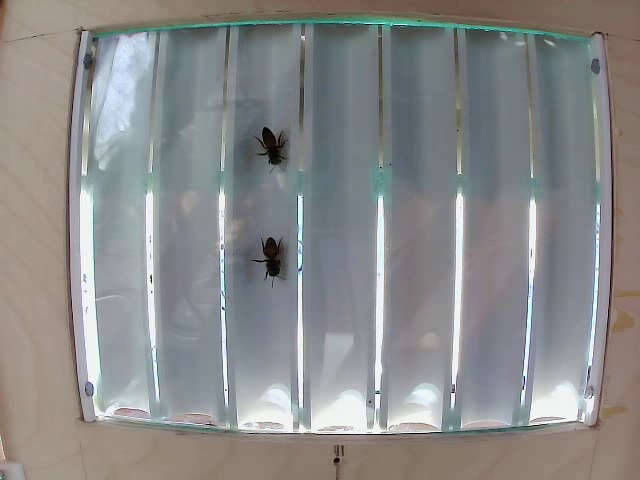bee: (253, 241, 292, 282), (254, 132, 295, 167)
